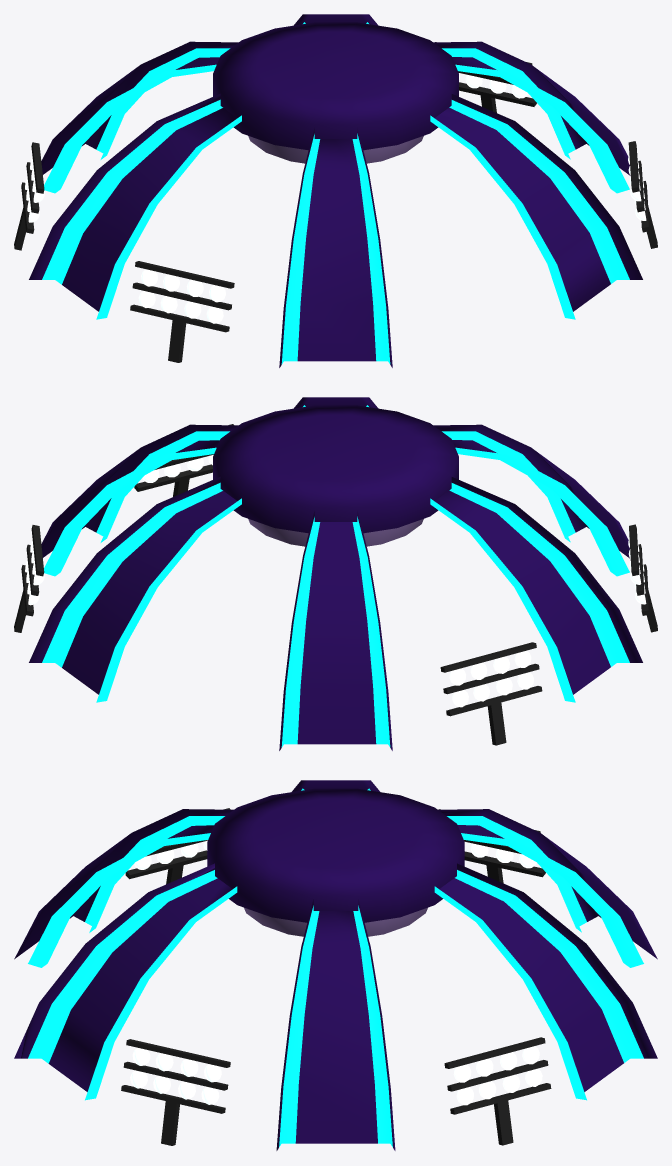
File: Cupula.fbx
The picture shows the model from 3 angles, top to bottom: view 1: azimuth 30°, elevation 25°; view 2: azimuth 150°, elevation 25°; view 3: azimuth 270°, elevation 25°; orthographic projection. The views are drawn at different scales.
Parts seen in each view (by area): view 1: Techo; view 2: Techo; view 3: Techo.
Part boxes in pixels (x1,y1,x2,y2): Techo: (14, 14, 657, 367); Techo: (14, 397, 657, 750); Techo: (14, 780, 657, 1150).
Bounding box in the file's own units: 366 × 113 × 350.
